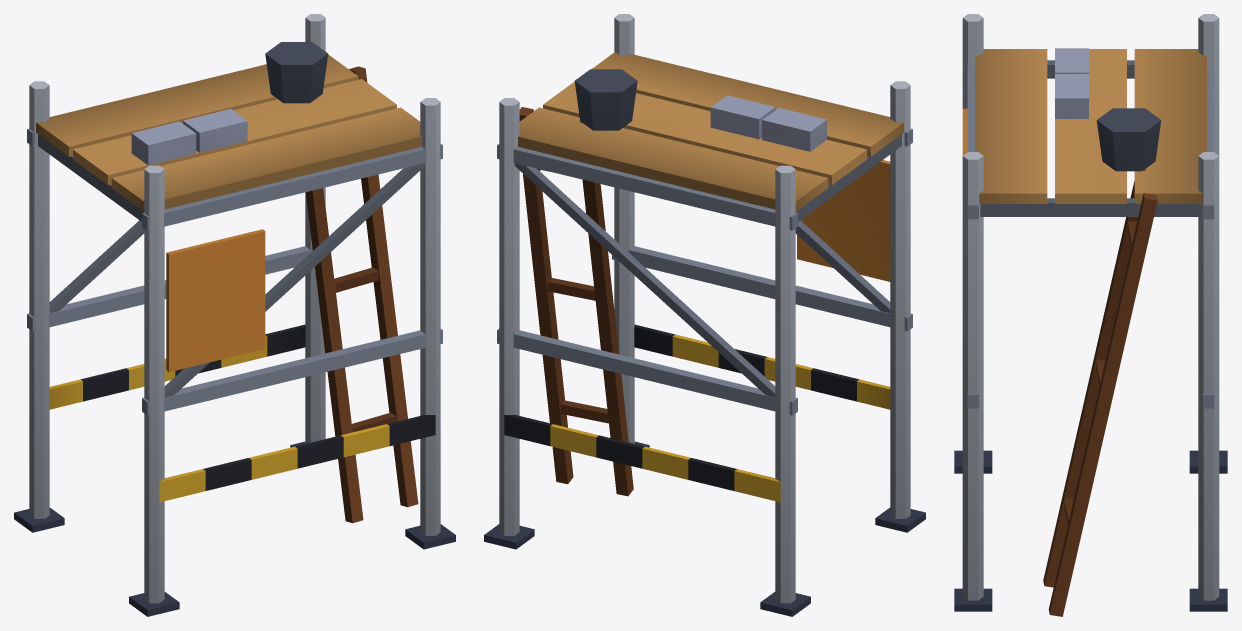
Rendered from wall_site.glb.
The picture shows the model from 3 angles, left to right: view 1: azimuth 30°, elevation 25°; view 2: azimuth 150°, elevation 25°; view 3: azimuth 270°, elevation 25°; orthographic projection. The views are drawn at different scales.
Parts seen in each view (by area): view 1: body; view 2: body; view 3: body.
Part boxes in pixels (x1=…): body: x1=14, y1=14, x2=455, y2=616; body: x1=484, y1=14, x2=925, y2=616; body: x1=954, y1=14, x2=1227, y2=616.
Bounding box in the file's own units: 1.98 × 2.65 × 1.44.
